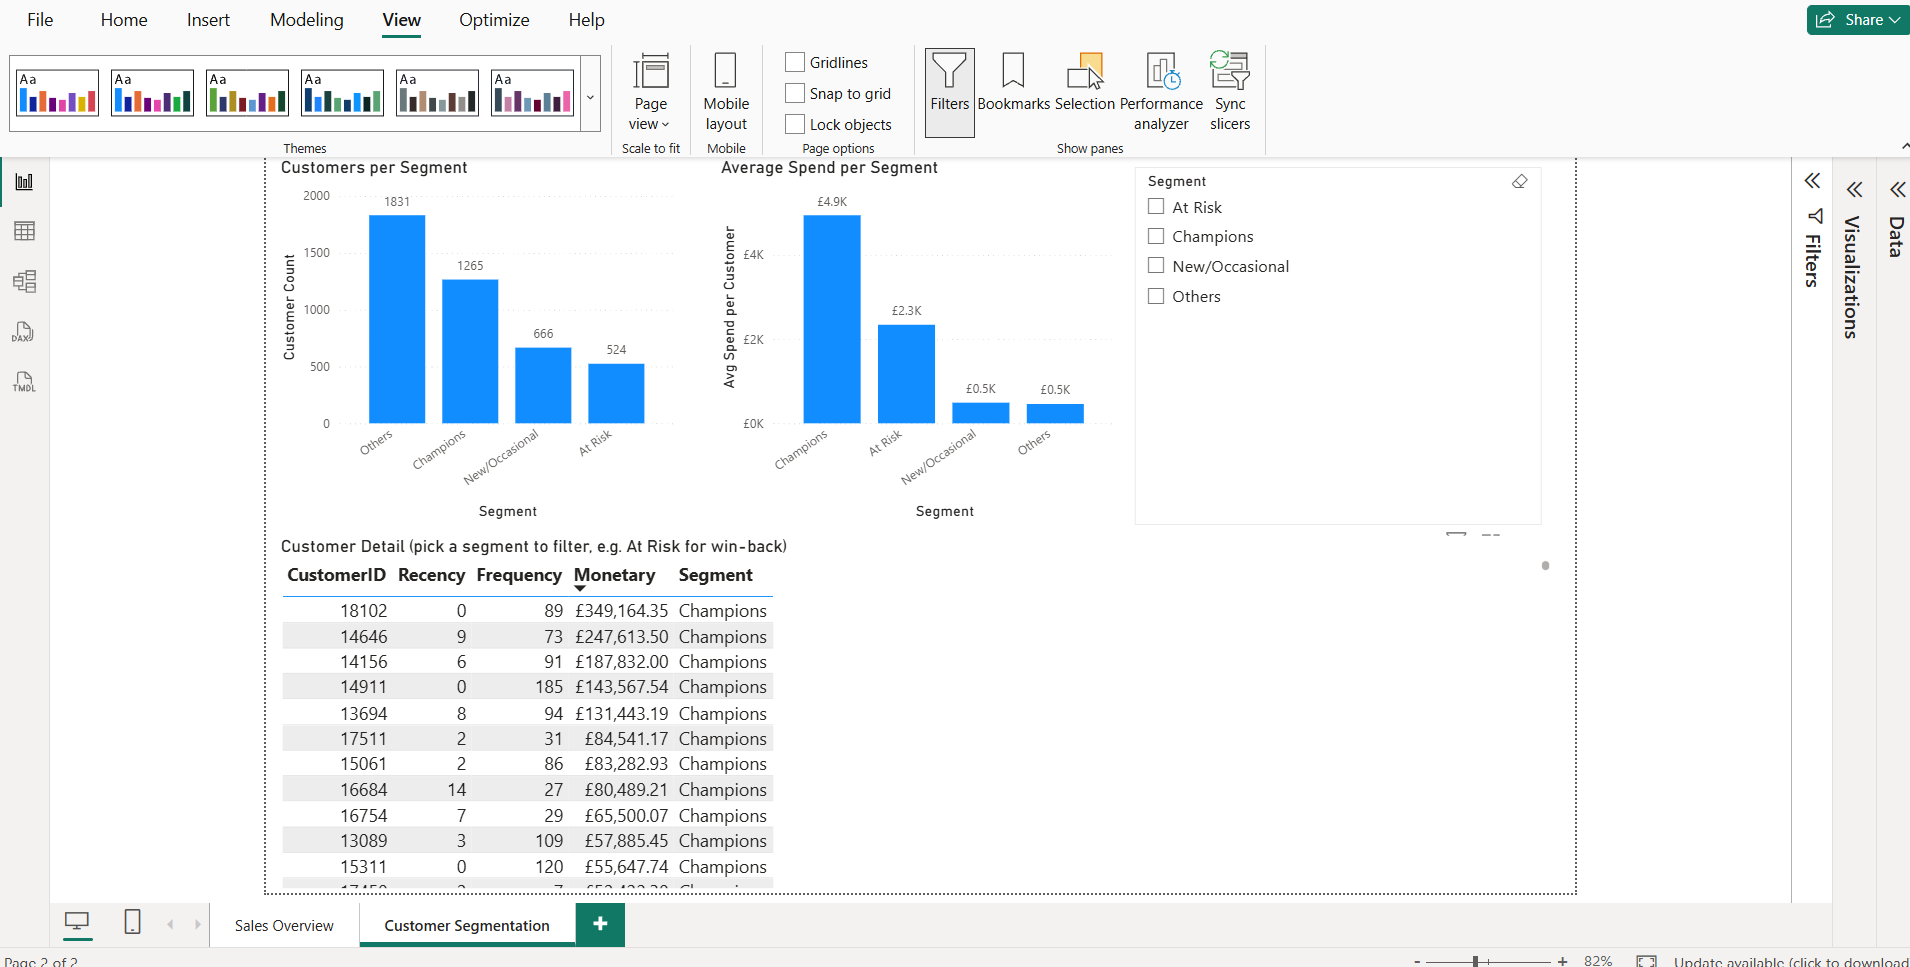

What the dashboard file says about the page in this screenshot:
{"tool":"powerbi","page":{"name":"Customer Segmentation","canvas":[1280,720],"ordinal":1},"visuals":[{"type":"clusteredColumnChart","title":"Customers per Segment","fields":{"Category":["vw_customer_rfm.Segment"],"Y":["vw_customer_rfm.Customer Count"]},"box":[9.6,0,396.6,359.5],"z":0},{"type":"clusteredColumnChart","title":"Average Spend per Segment","fields":{"Category":["vw_customer_rfm.Segment"],"Y":["vw_customer_rfm.Avg Spend per Customer"]},"box":[440.5,0,396.6,359.5],"z":1},{"type":"slicer","fields":{"Values":["vw_customer_rfm.Segment"]},"box":[849.4,9.6,397.9,349.9],"z":2},{"type":"tableEx","title":"Customer Detail (pick a segment to filter, e.g. At Risk for win-back)","fields":{"Values":["vw_customer_rfm.CustomerID","vw_customer_rfm.Recency","vw_customer_rfm.Frequency","vw_customer_rfm.Monetary","vw_customer_rfm.Segment"]},"box":[9.6,370.5,1251.5,349.9],"z":3}]}

Visuals, with their boxes on the page's 1280x720 design canvas (x1, y1, x2, y2). These are canvas units, not pixel positions in the 1910x967 screenshot, which may show the page scaled, cropped or inside an application window:
"Customers per Segment" clusteredColumnChart: <region>10, 0, 406, 360</region>
"Average Spend per Segment" clusteredColumnChart: <region>440, 0, 837, 360</region>
slicer - vw_customer_rfm.Segment: <region>849, 10, 1247, 360</region>
"Customer Detail (pick a segment to filter, e.g. At Risk for win-back)" tableEx: <region>10, 370, 1261, 720</region>
